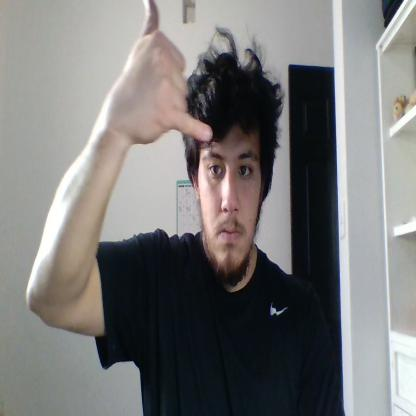Y: (121, 0, 212, 141)
